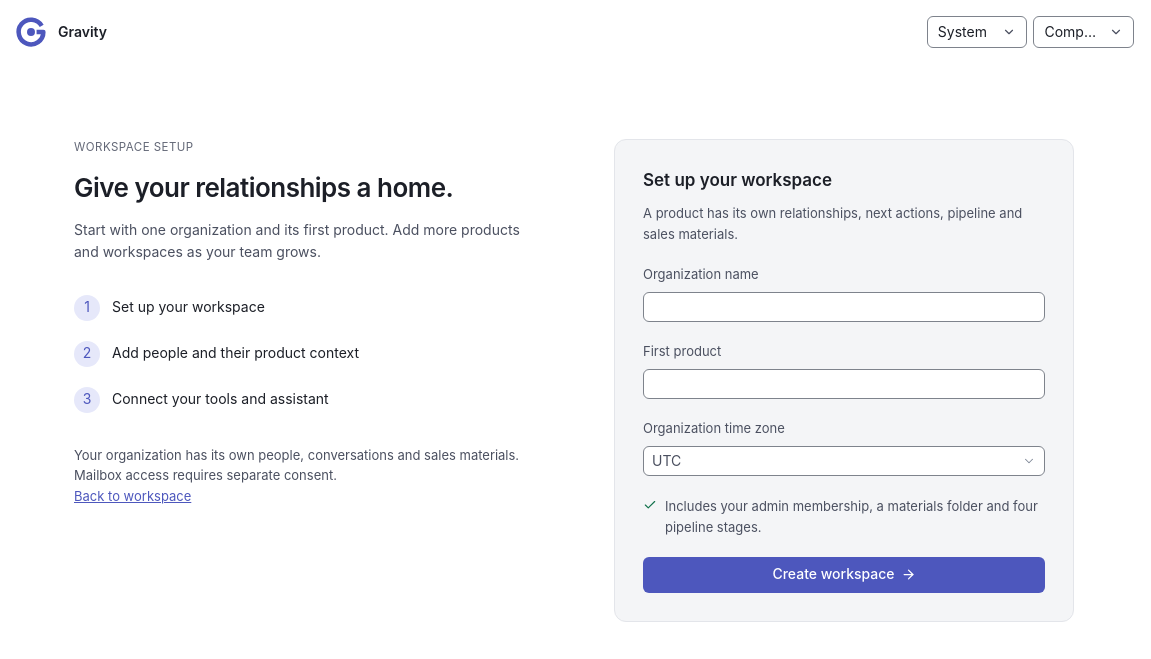
Test case: workspace setup validates required fields, locks one pending submission and preserves a failed name
Press Enter in the field labelled "Organization name", box x1=643 y1=292 x2=1045 y2=322
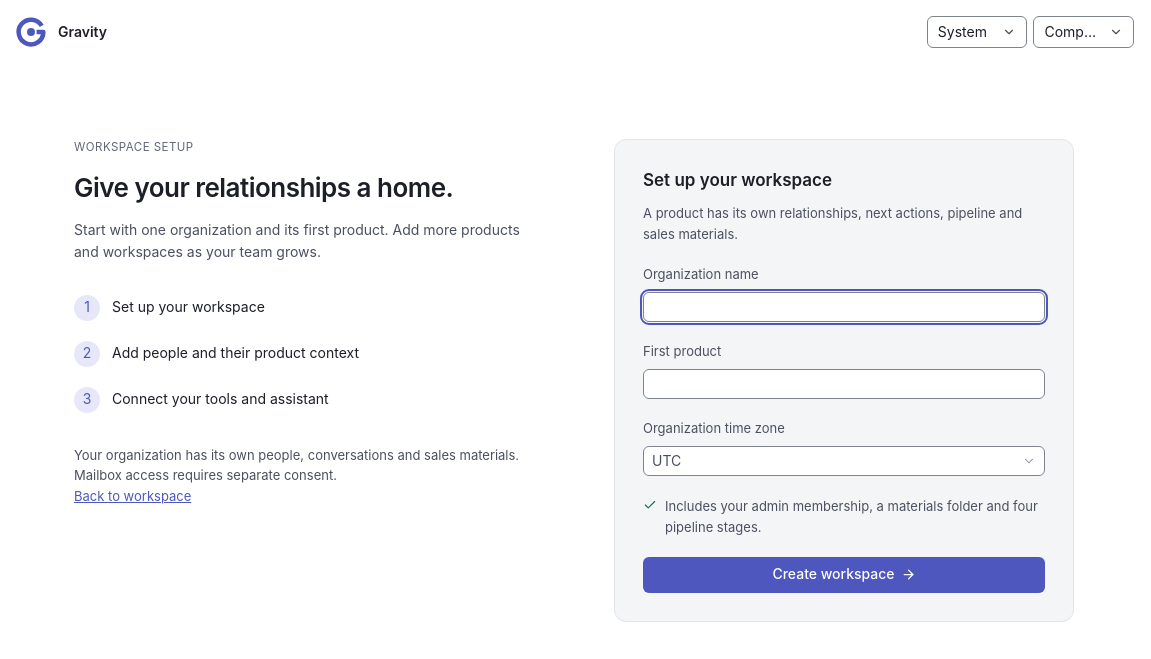
In the field labelled "Organization name": point(844, 307) x1=643 y1=292 x2=1045 y2=322, type "Fictional workspace"
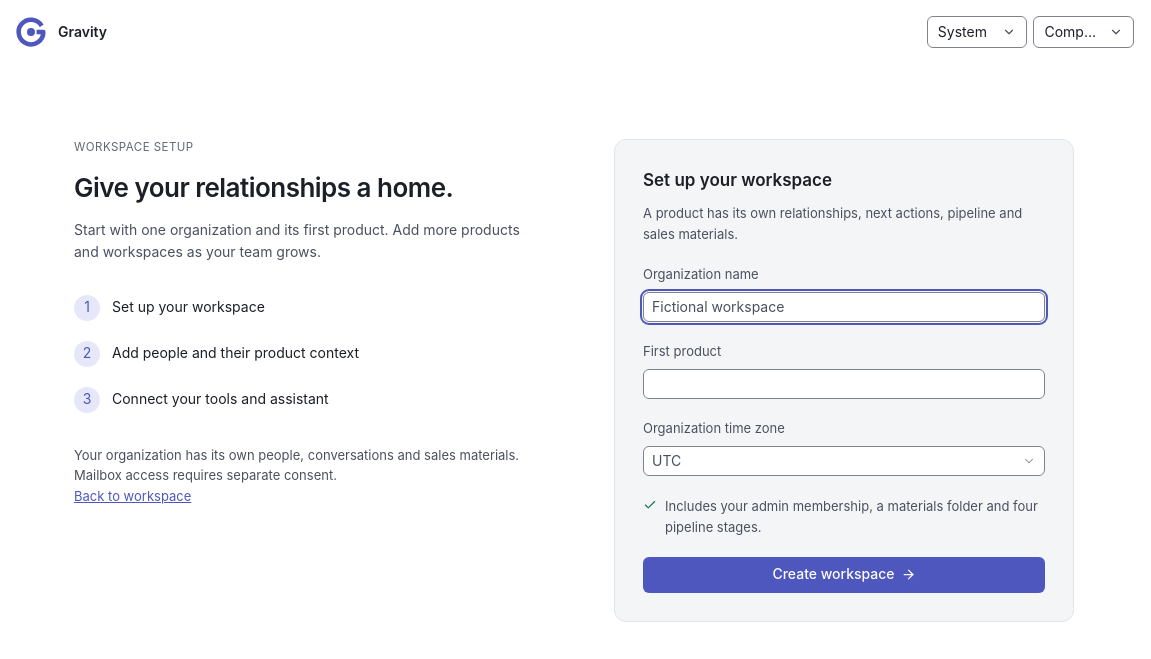
In the field labelled "First product": point(844, 384) x1=643 y1=369 x2=1045 y2=399, type "Fictional product"
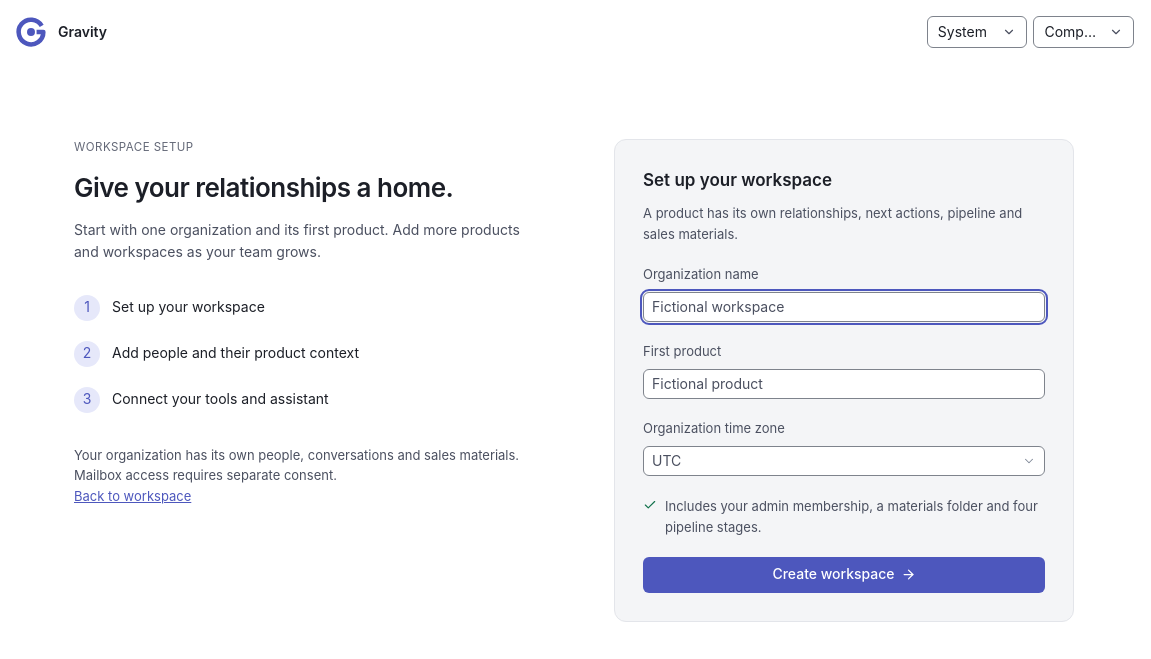
Select "UTC" in the dropdown labelled "Organization time zone": point(844, 462) x1=643 y1=446 x2=1045 y2=476
Press Enter in the field labelled "First product", box x1=643 y1=369 x2=1045 y2=399
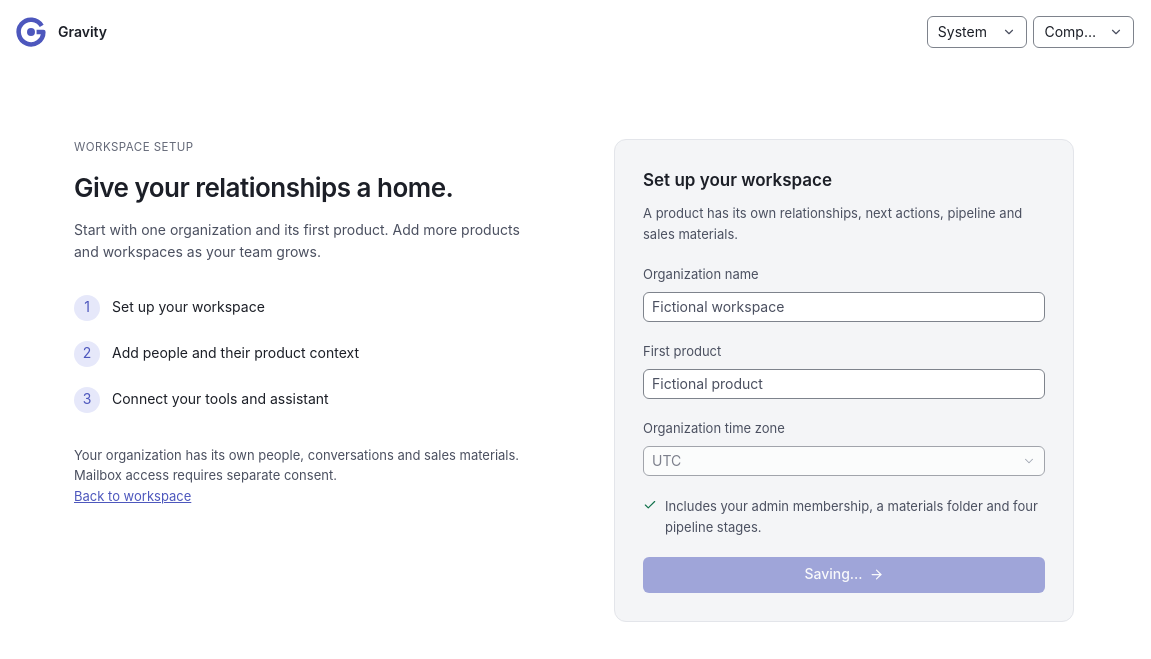
Submit the form named "Organization name", box x1=643 y1=498 x2=1045 y2=593
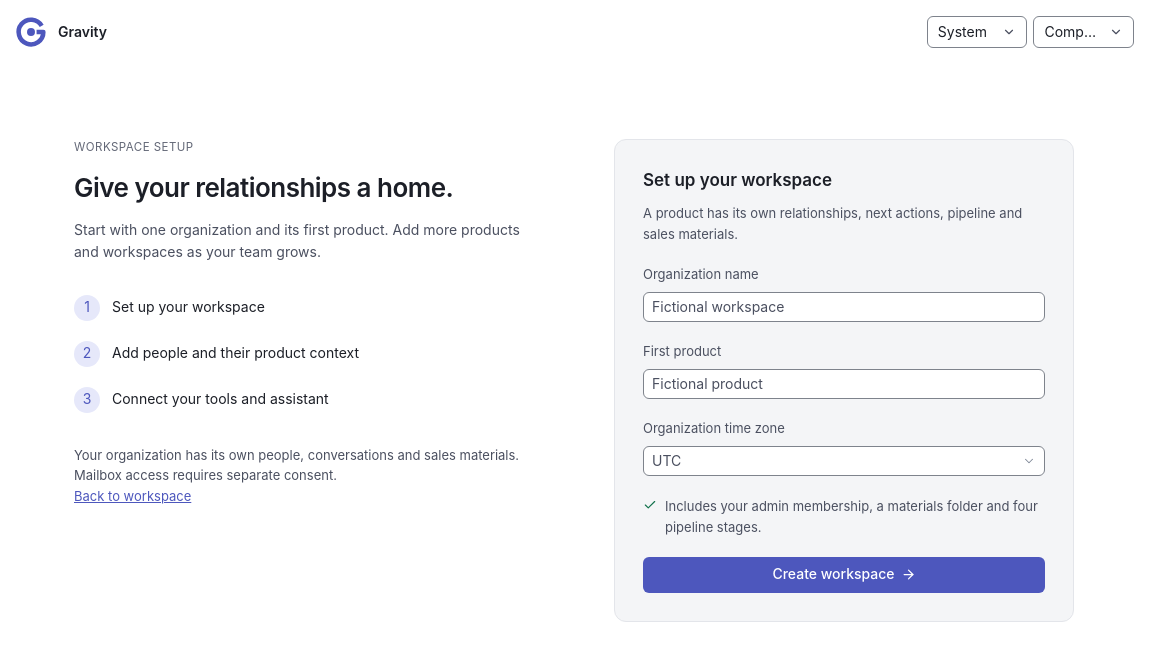
Submit the form named "Organization name", box x1=643 y1=498 x2=1045 y2=593
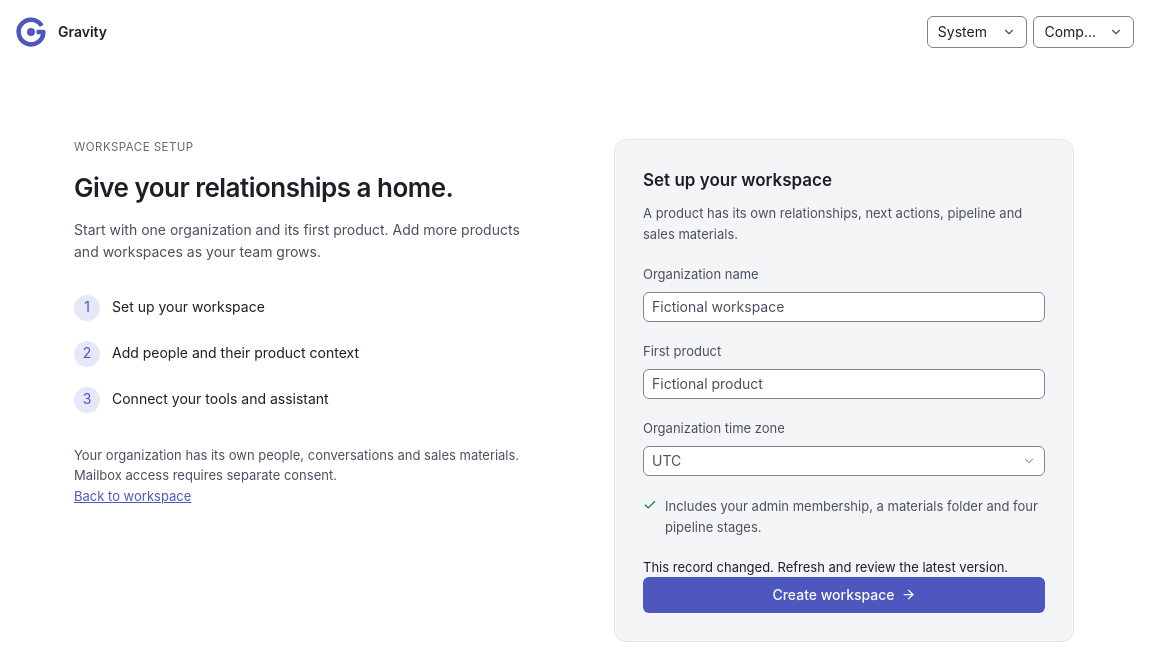
Expected: the message reads "This record changed. Refresh and review the latest version.", x1=643 y1=559 x2=1008 y2=575
